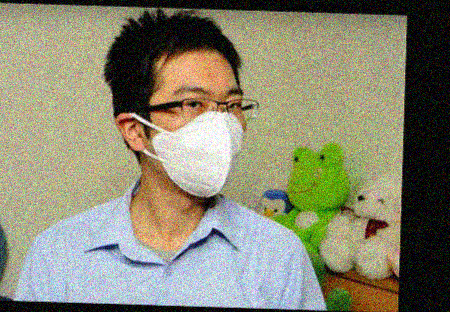with_mask: (148, 81, 247, 200)
